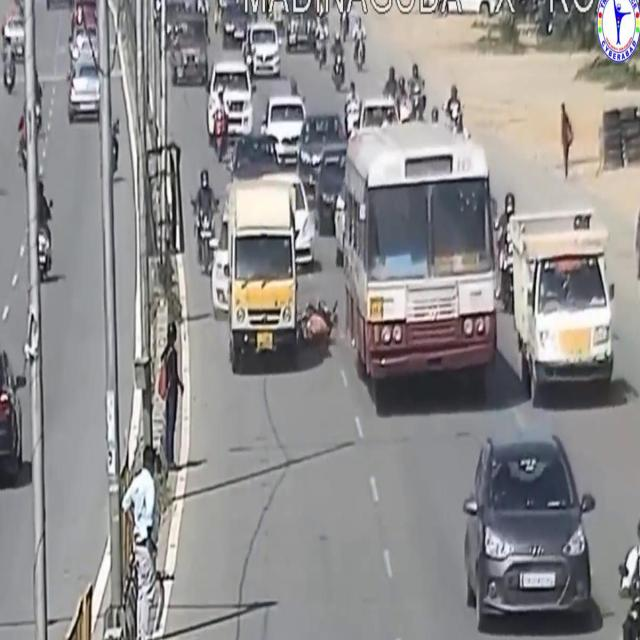accident: (215, 114, 341, 415)
non_accident: (156, 1, 301, 159), (37, 0, 101, 145)
